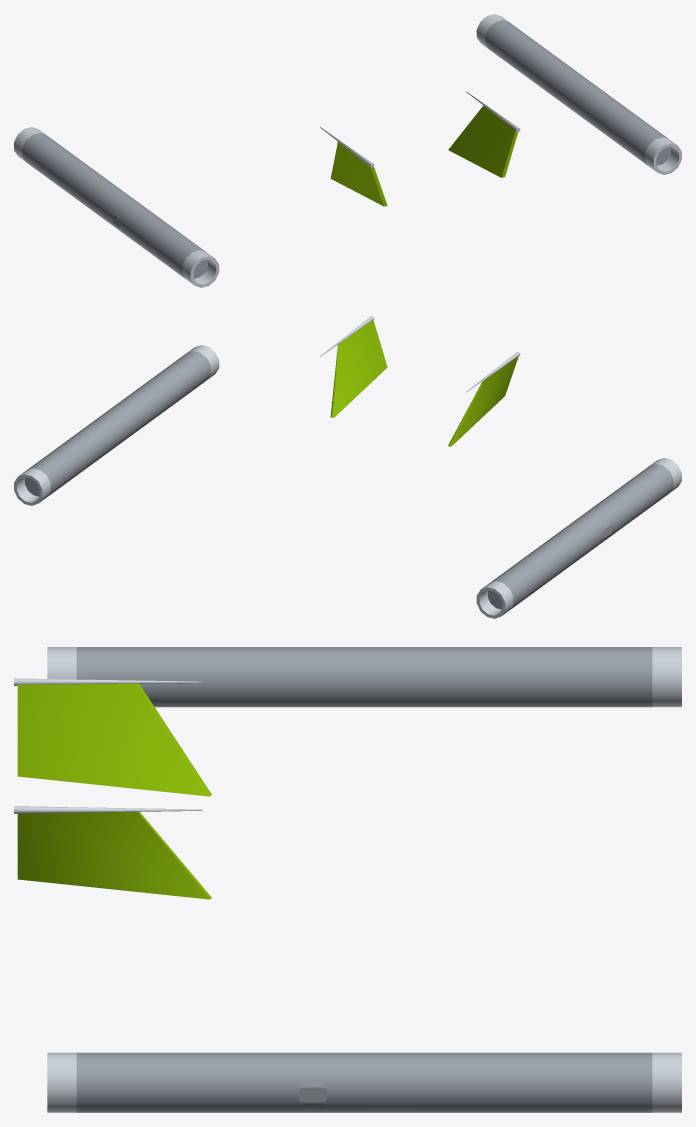
3 renders of one model, top to bottom at view 1: azimuth 30°, elevation 25°; view 2: azimuth 150°, elevation 25°; view 3: azimuth 270°, elevation 25°, orthographic. The views are drawn at different scales.
Parts seen in each view (by area): view 1: lod2_mk3_part; view 2: lod2_mk3_part; view 3: lod2_mk3_part.
Boxes of the visible parts, x1,y1,x2,y2 form: lod2_mk3_part: (14,14,681,287); lod2_mk3_part: (14,316,681,618); lod2_mk3_part: (14,647,681,1112).
Size of the model in its own units: 27.62 by 18.1 by 4.9.
